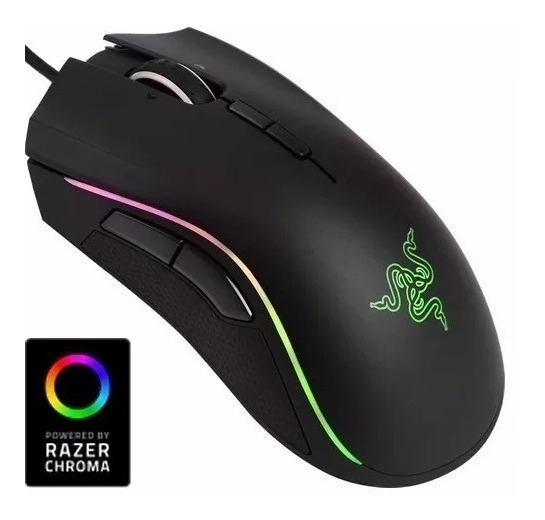mouse: (31, 30, 508, 489)
